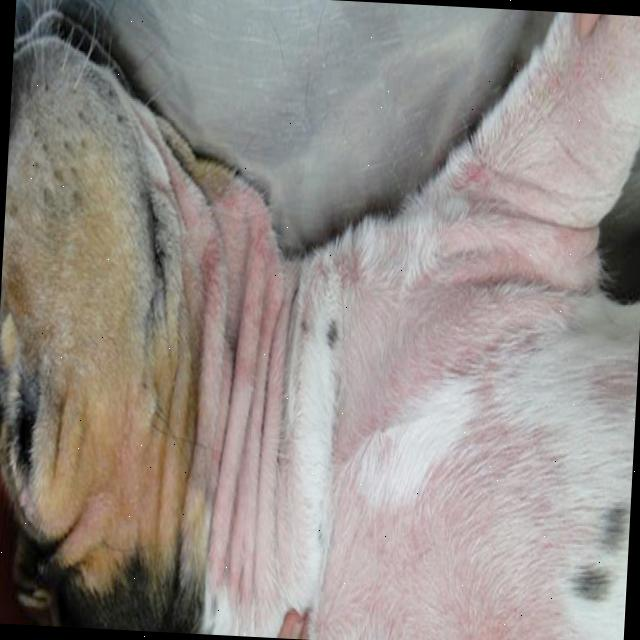cat-hairloss: (317, 214, 577, 640)
